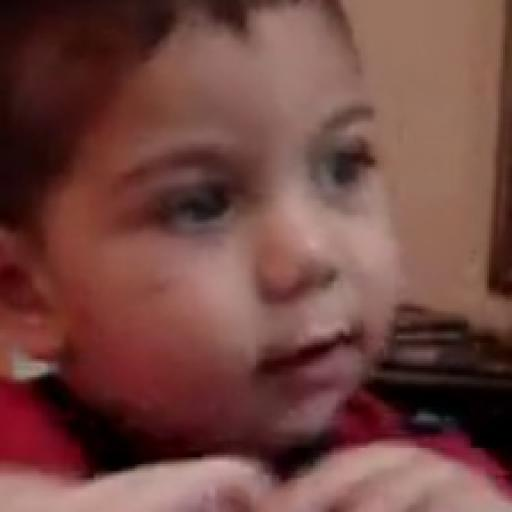Autism: (40, 24, 505, 431)
